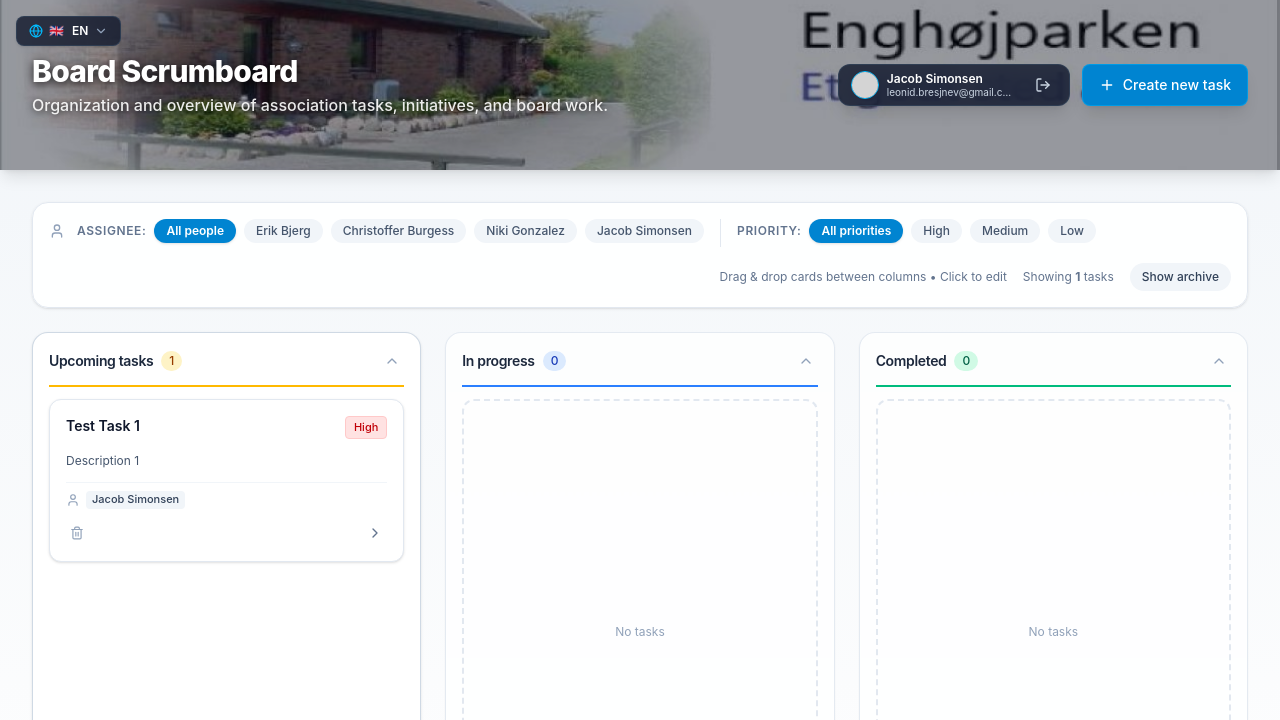
Test: Internationalization and LanguageSelector Tests › switches back from English to Danish
Check: the heading "Board Scrumboard" is shown, box [32,53,298,89]
What coordinates should you click on to do the following:
click the button with aria-label "vælg sprog / select language"
I would click on:
 (69, 31)
Its box is [16,16,121,46].
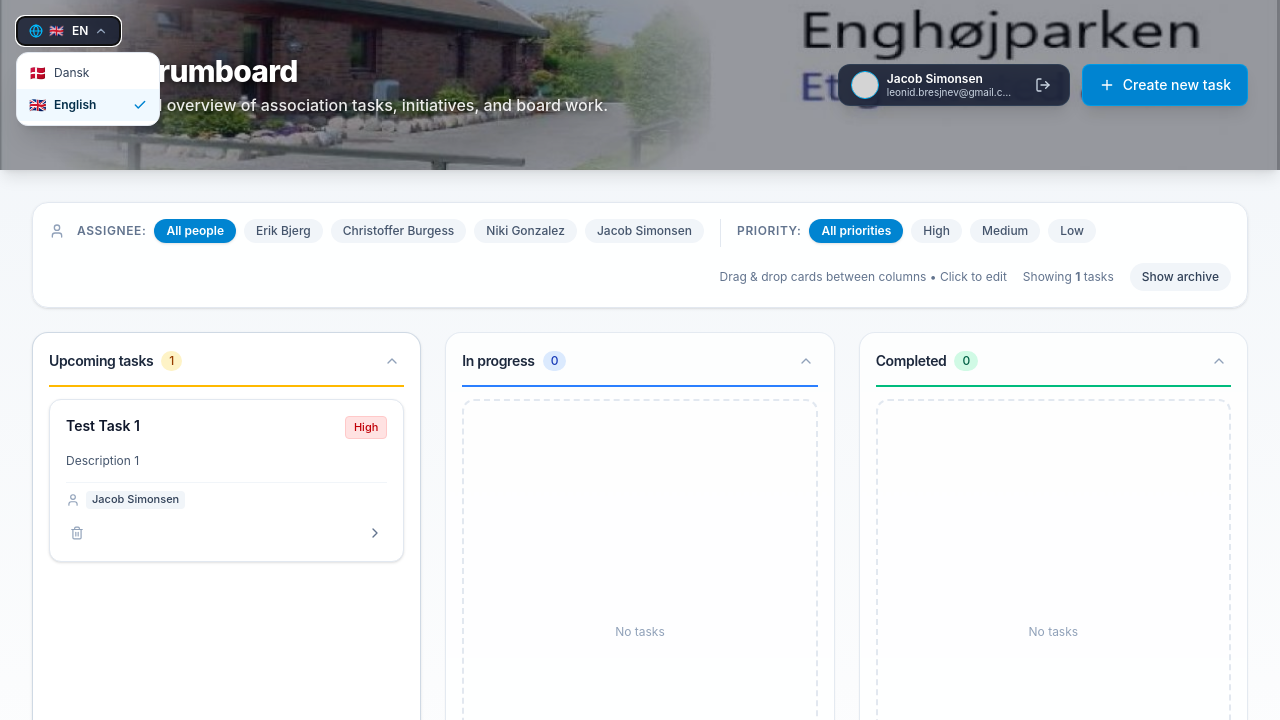
What coordinates should you click on to do the following:
click the menu item "🇩🇰 Dansk"
I would click on:
 (88, 73)
Its box is [17,57,159,89].
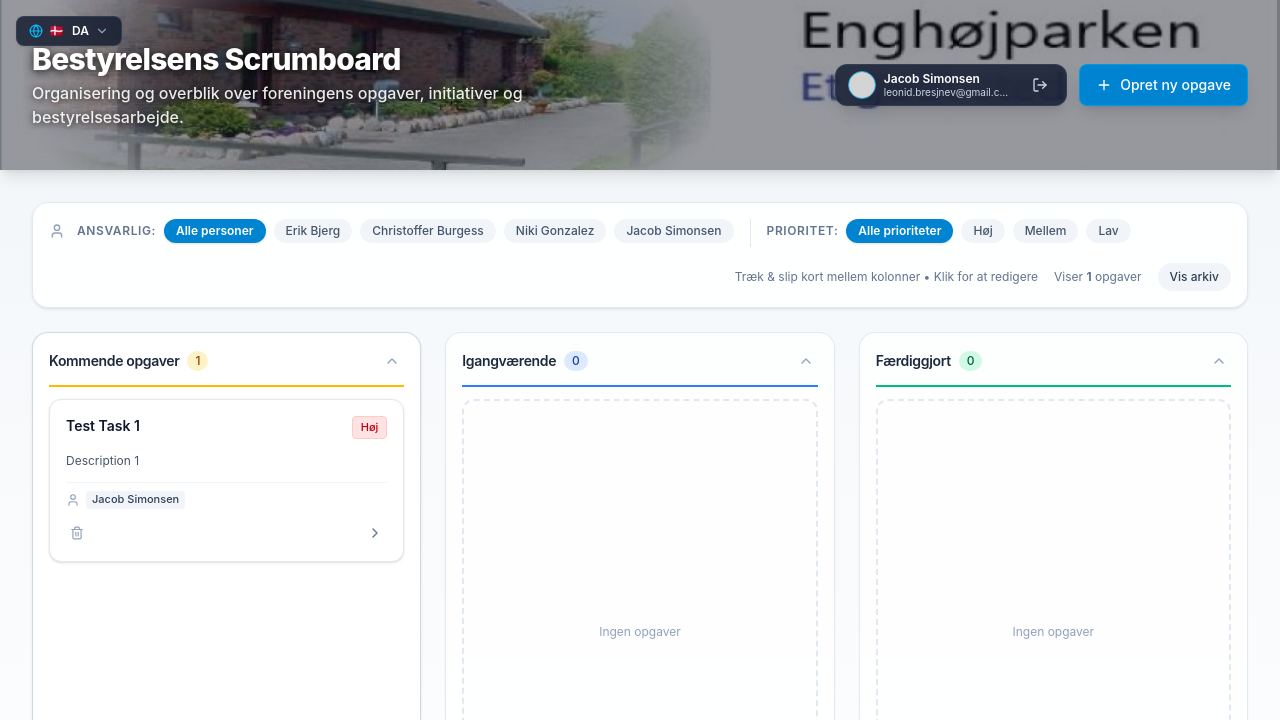
Check: the heading "Bestyrelsens Scrumboard" is shown, box [32,41,401,77]
Check: the heading "Kommende opgaver" is shown, box [49,351,179,371]
